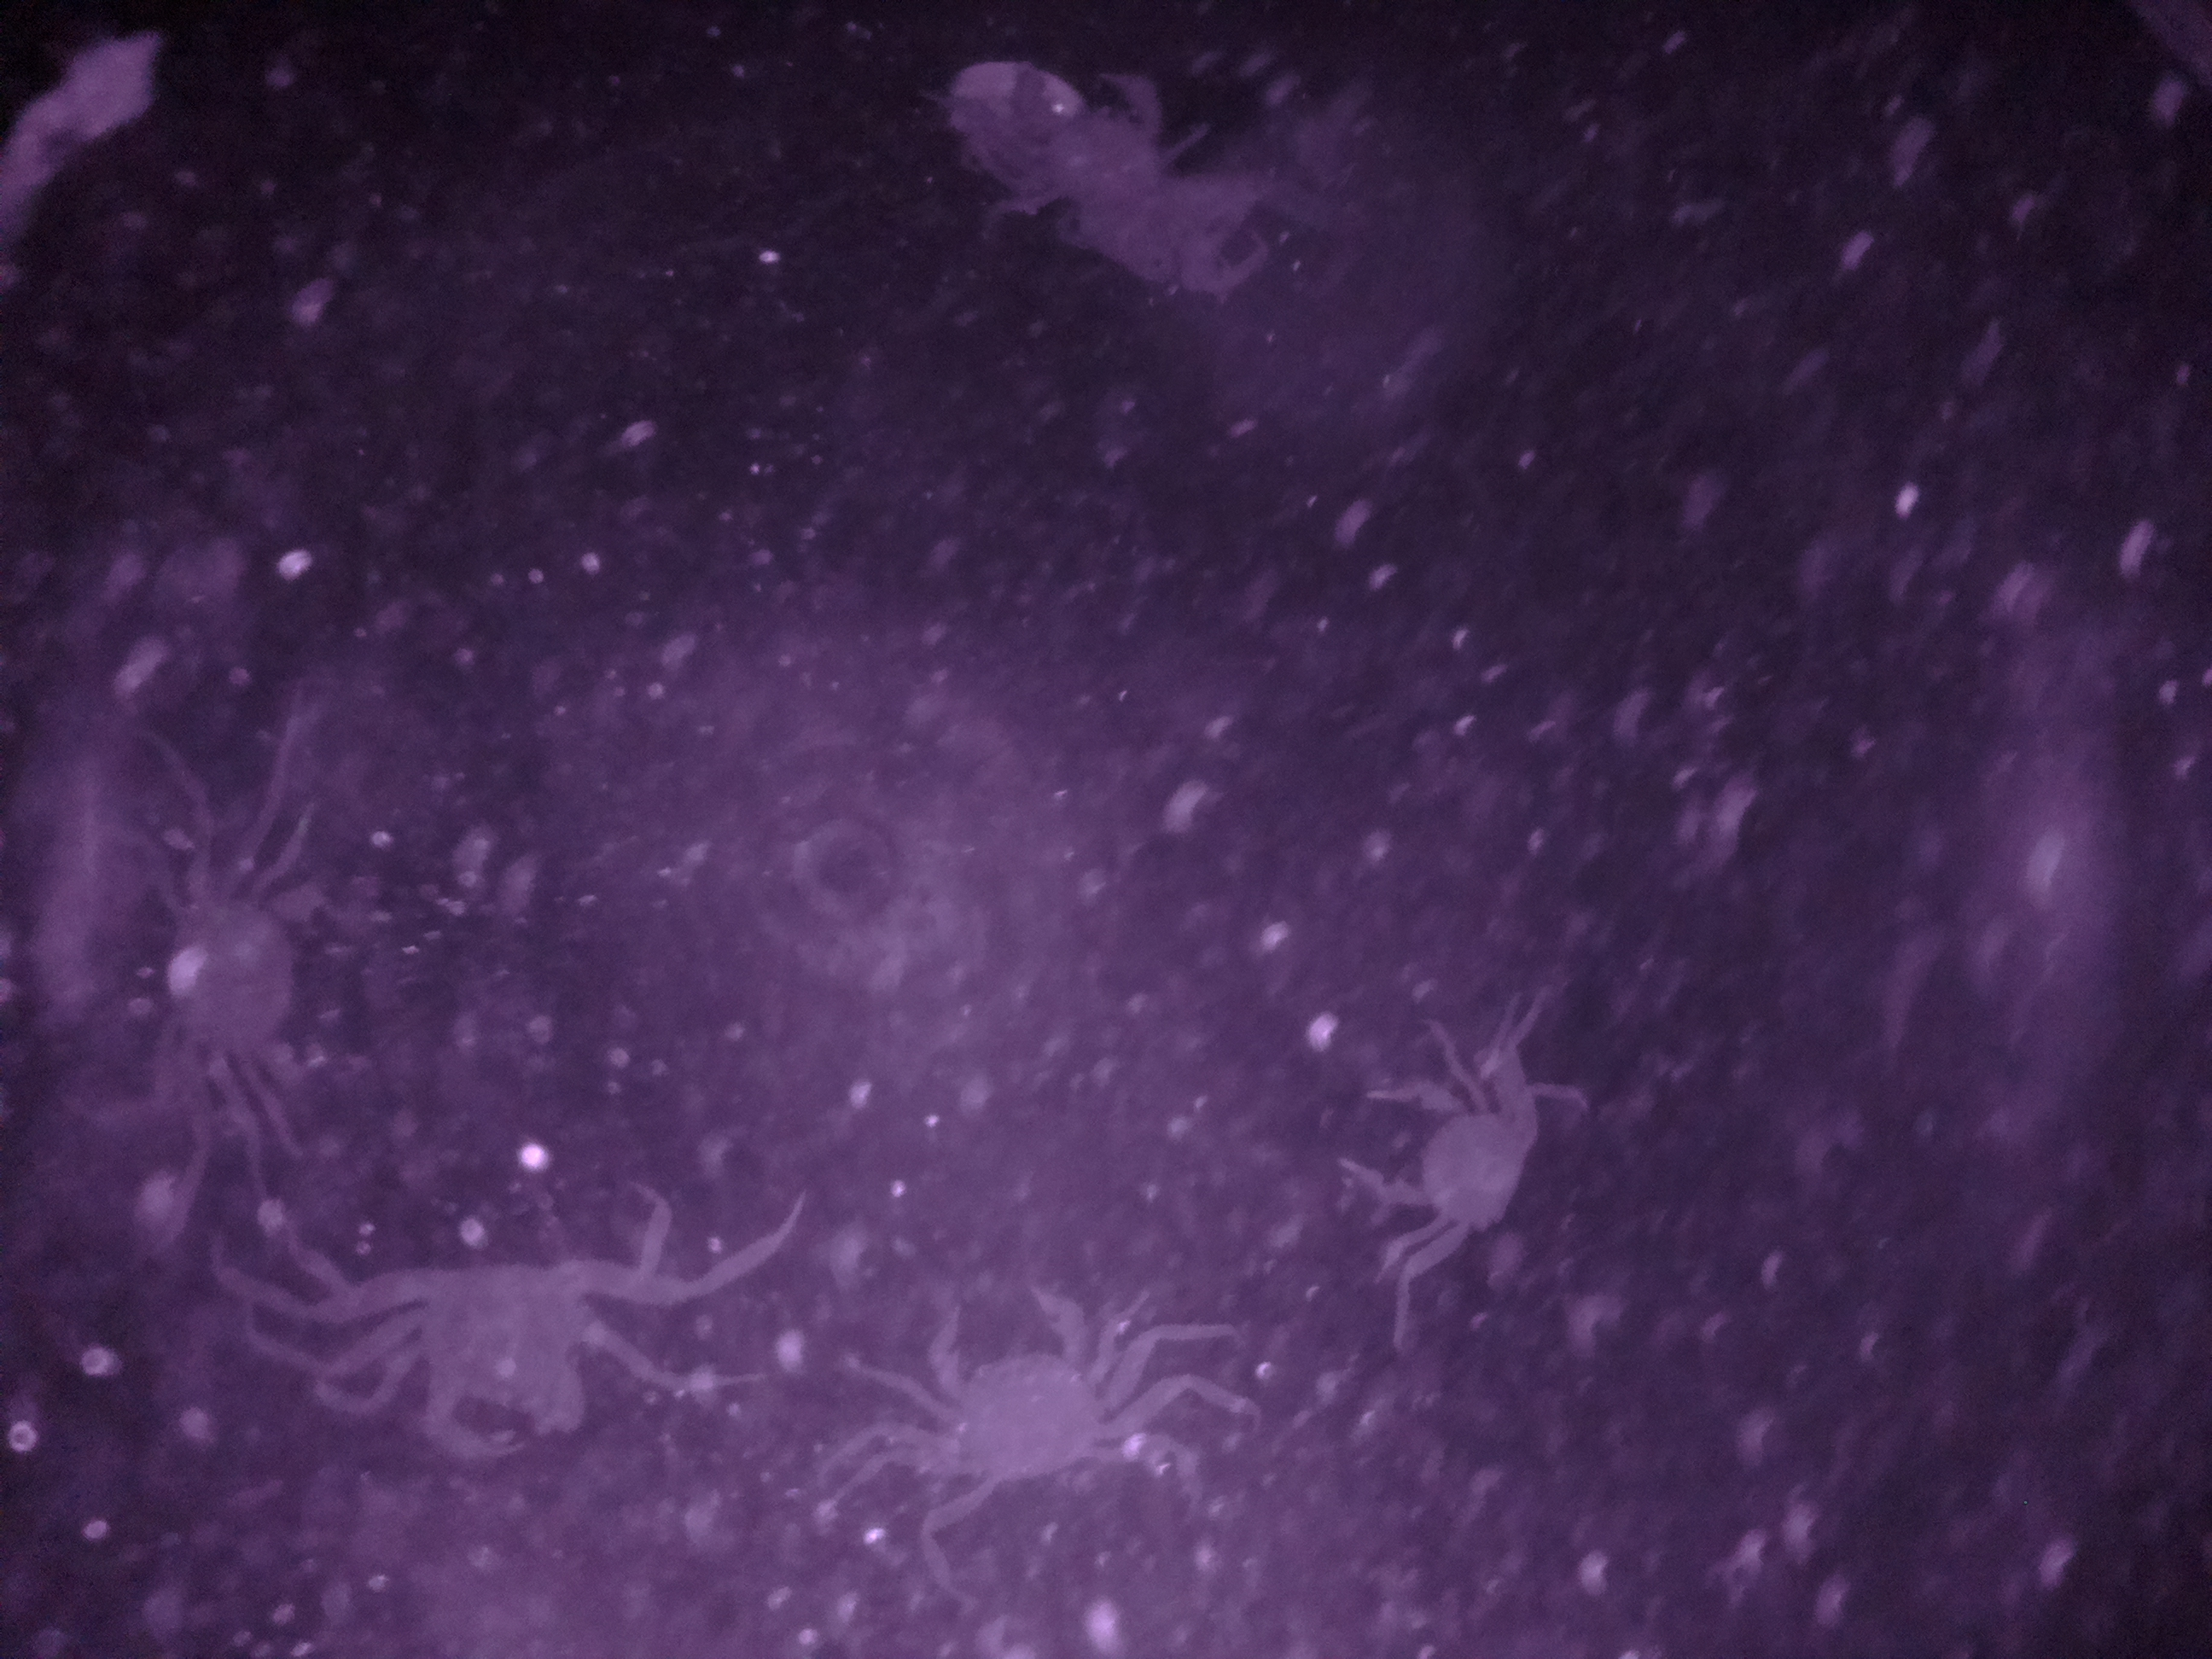Crab: (843, 1272, 1163, 1523), (338, 1223, 646, 1474), (1301, 1047, 1562, 1272)
